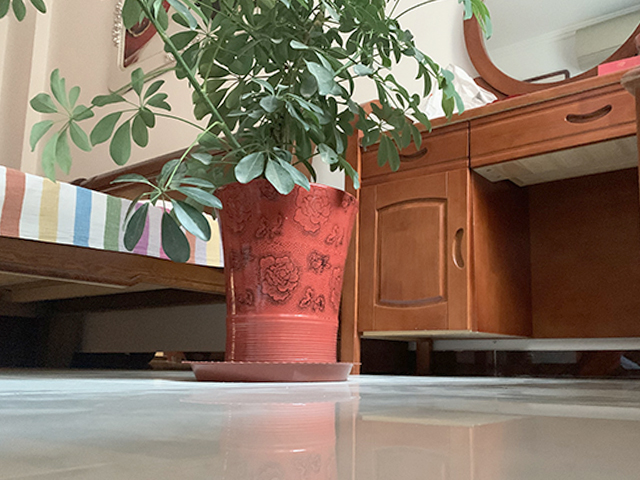bed: (1, 141, 226, 368)
table: (339, 65, 640, 377)
